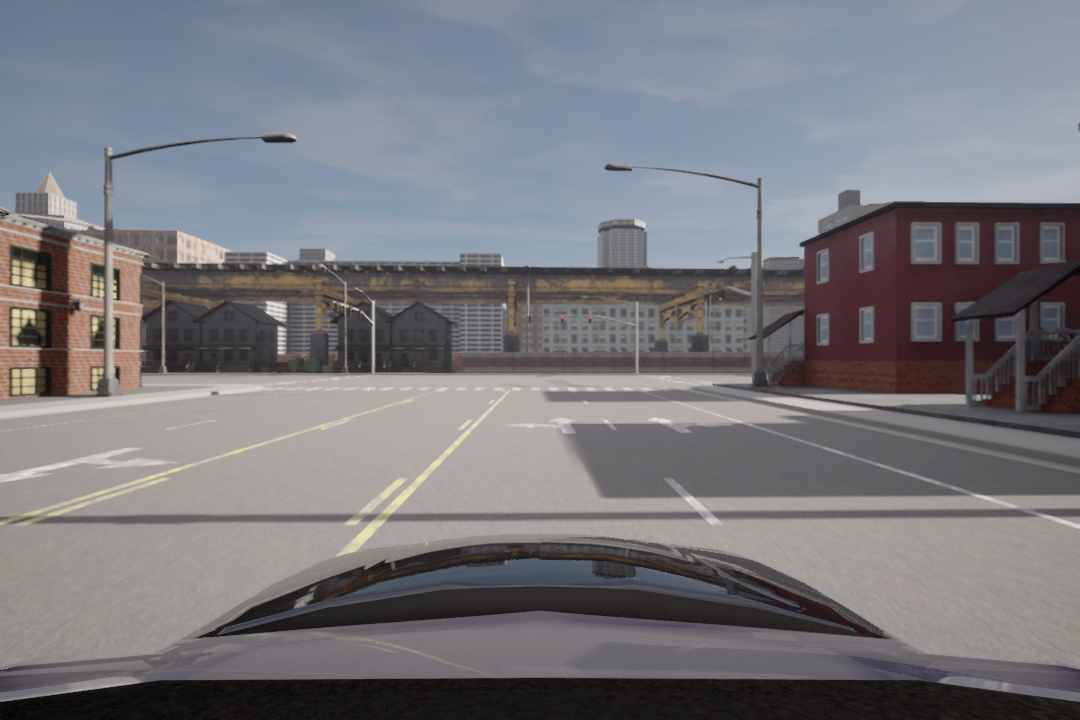RoadSign_forward_left: (1, 436, 189, 487), (505, 414, 584, 440)
RoadSign_forward_right: (637, 411, 738, 439)
